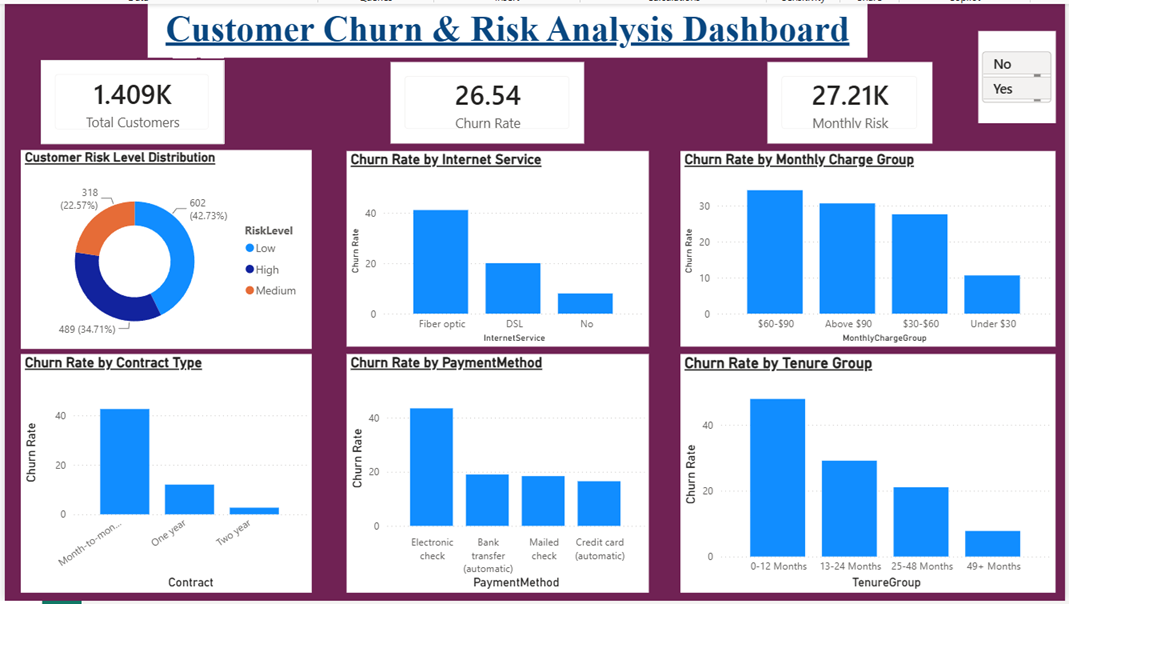

This screenshot's page, from the dashboard's own definition file:
{"tool":"powerbi","page":{"name":"Page 1","canvas":[1280,720],"ordinal":0},"visuals":[{"type":"cardVisual","fields":{"Data":["CountNonNull(Customer churn risk analytics.customerID)"]},"box":[43.9,67.2,220.9,101.5],"z":0},{"type":"cardVisual","fields":{"Rows":["Customer churn risk analytics.Churn"]},"box":[1174.6,32.9,93.3,111.1],"z":1},{"type":"cardVisual","fields":{"Data":["Customer churn risk analytics.Churn Rate"]},"box":[465.2,70,233.3,98.8],"z":2},{"type":"cardVisual","fields":{"Data":["Customer churn risk analytics.Monthly Revenue at Risk"]},"box":[920.8,70,199,98.8],"z":3},{"type":"clusteredColumnChart","title":"Churn Rate by Contract Type","fields":{"Category":["Customer churn risk analytics.Contract"],"Y":["Customer churn risk analytics.Churn Rate"]},"box":[19.2,422.6,351.3,288.2],"z":5},{"type":"clusteredColumnChart","title":"Churn Rate by Tenure Group","fields":{"Y":["Customer churn risk analytics.Churn Rate"],"Category":["Customer churn risk analytics.TenureGroup"]},"box":[815.1,422.6,452.8,288.2],"z":6},{"type":"clusteredColumnChart","fields":{"Category":["Customer churn risk analytics.PaymentMethod"],"Y":["Customer churn risk analytics.Churn Rate"]},"box":[413,422.6,365,288.2],"z":7},{"type":"donutChart","title":"Customer Risk Level Distribution","fields":{"Y":["CountNonNull(Customer churn risk analytics.customerID)"],"Category":["Customer churn risk analytics.RiskLevel"]},"box":[19.2,175.6,351.3,240.1],"z":8},{"type":"clusteredColumnChart","title":"Churn Rate by Internet Service","fields":{"Category":["Customer churn risk analytics.InternetService"],"Y":["Customer churn risk analytics.Churn Rate"]},"box":[413,177,365,236],"z":9},{"type":"clusteredColumnChart","title":"Churn Rate by Monthly Charge Group","fields":{"Y":["Customer churn risk analytics.Churn Rate"],"Category":["Customer churn risk analytics.MonthlyChargeGroup"]},"box":[815.1,177,452.8,236],"z":10},{"type":"textbox","box":[172.9,0,868.6,64.5],"z":11}]}

Visuals, with their boxes on the page's 1280x720 design canvas (x1, y1, x2, y2). These are canvas units, not pixel positions in the 1152x648 screenshot, which may show the page scaled, cropped or inside an application window:
cardVisual - CountNonNull(Customer churn risk analytics.customerID): BBox(44, 67, 265, 169)
cardVisual - Customer churn risk analytics.Churn: BBox(1175, 33, 1268, 144)
cardVisual - Customer churn risk analytics.Churn Rate: BBox(465, 70, 698, 169)
cardVisual - Customer churn risk analytics.Monthly Revenue at Risk: BBox(921, 70, 1120, 169)
"Churn Rate by Contract Type" clusteredColumnChart: BBox(19, 423, 370, 711)
"Churn Rate by Tenure Group" clusteredColumnChart: BBox(815, 423, 1268, 711)
clusteredColumnChart - Customer churn risk analytics.PaymentMethod x Customer churn risk analytics.Churn Rate: BBox(413, 423, 778, 711)
"Customer Risk Level Distribution" donutChart: BBox(19, 176, 370, 416)
"Churn Rate by Internet Service" clusteredColumnChart: BBox(413, 177, 778, 413)
"Churn Rate by Monthly Charge Group" clusteredColumnChart: BBox(815, 177, 1268, 413)
textbox: BBox(173, 0, 1042, 64)
